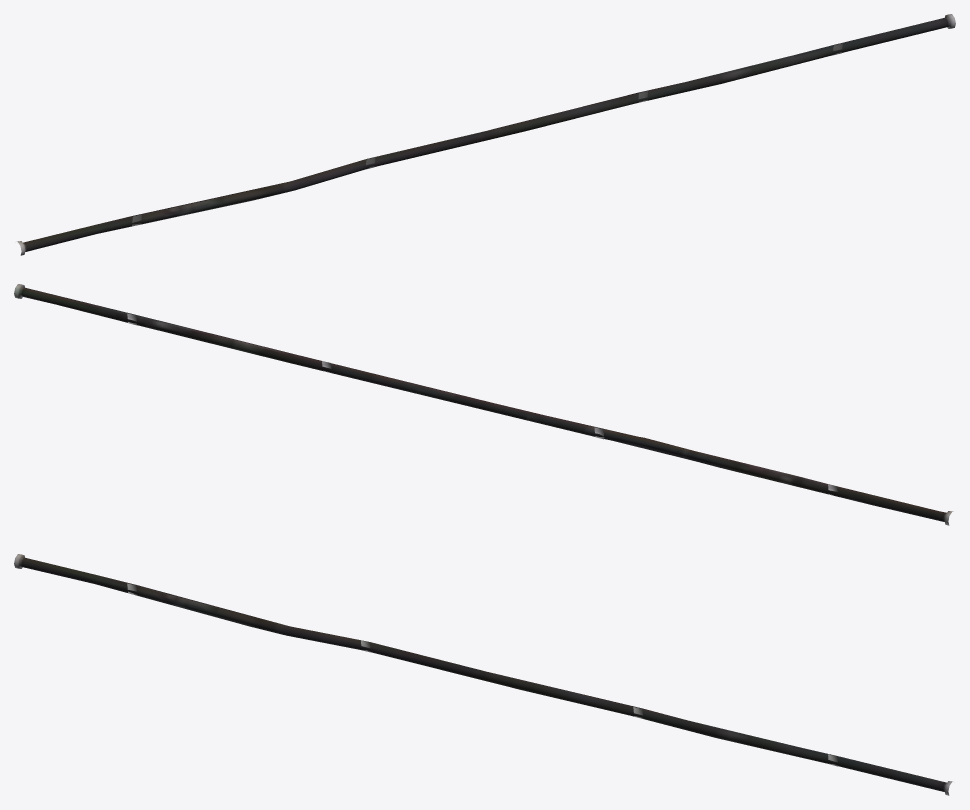
File: electric_cable_300_b.glb
The picture shows the model from 3 angles, top to bottom: view 1: azimuth 30°, elevation 25°; view 2: azimuth 150°, elevation 25°; view 3: azimuth 330°, elevation 25°; orthographic projection.
Visible parts, largest first — view 1: electric_cable_300_b; view 2: electric_cable_300_b; view 3: electric_cable_300_b.
Boxes of the visible parts, x1,y1,x2,y2 form: electric_cable_300_b: [17, 14, 955, 255]; electric_cable_300_b: [14, 284, 953, 525]; electric_cable_300_b: [14, 554, 952, 795].
Bounding box in the file's own units: 3 × 0.0434 × 0.0864.
Materials: 1 (1 with a texture image).
